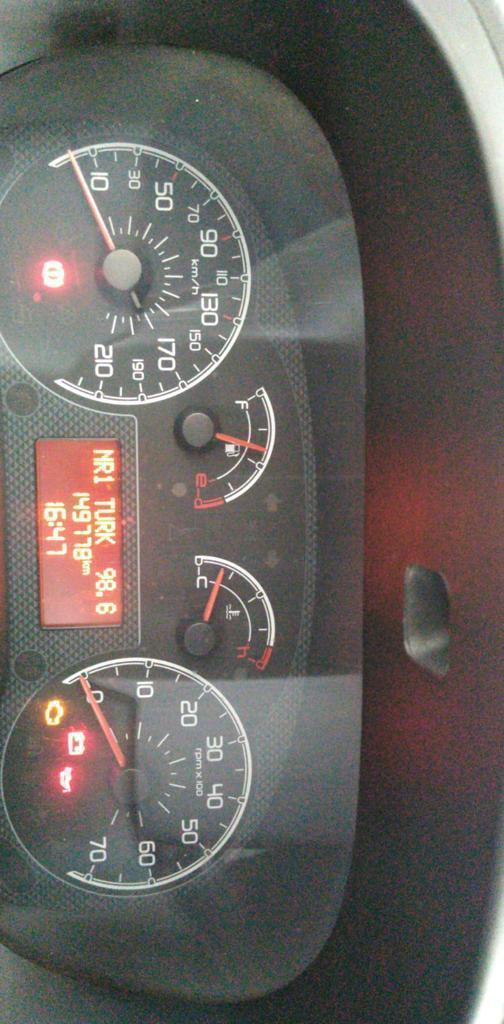,: (94, 591, 104, 598)
1: (93, 475, 117, 484), (42, 501, 66, 506), (70, 491, 92, 496)
4: (44, 527, 66, 540), (72, 497, 91, 509)
6: (43, 507, 66, 521), (94, 602, 118, 615)
7: (45, 542, 67, 555), (71, 536, 92, 547), (71, 524, 92, 535)
8: (72, 547, 92, 560), (94, 579, 117, 590)
9: (94, 566, 118, 579), (71, 509, 92, 522)
X: (93, 447, 115, 462), (93, 532, 118, 545), (93, 508, 116, 520), (92, 497, 116, 508), (92, 462, 116, 473), (93, 521, 116, 531), (80, 565, 90, 575), (46, 521, 64, 526), (80, 560, 91, 565)
odometer: (28, 435, 128, 631)
